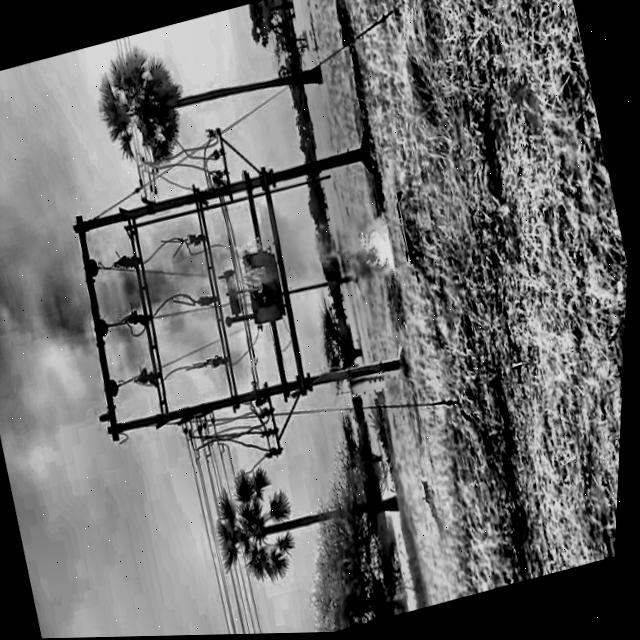Fire: (216, 226, 286, 311), (348, 212, 407, 287)
